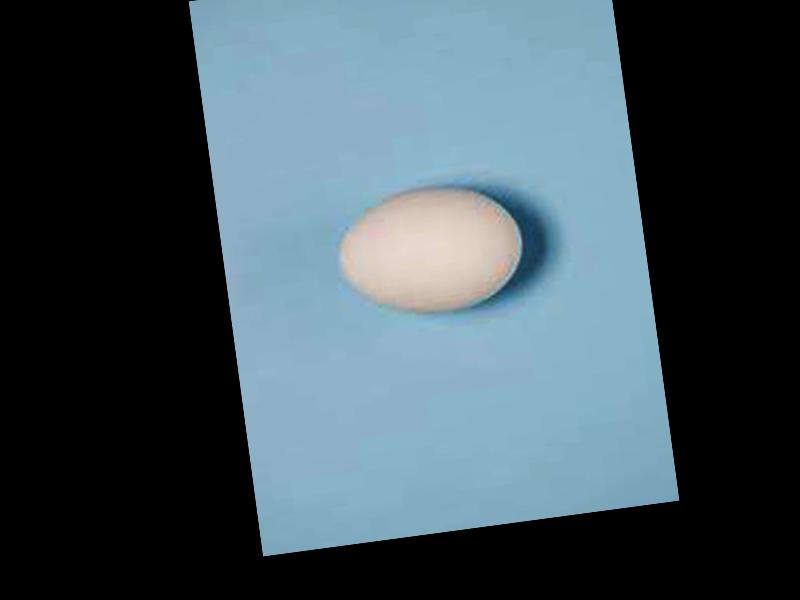Eggs: (329, 175, 529, 323)
